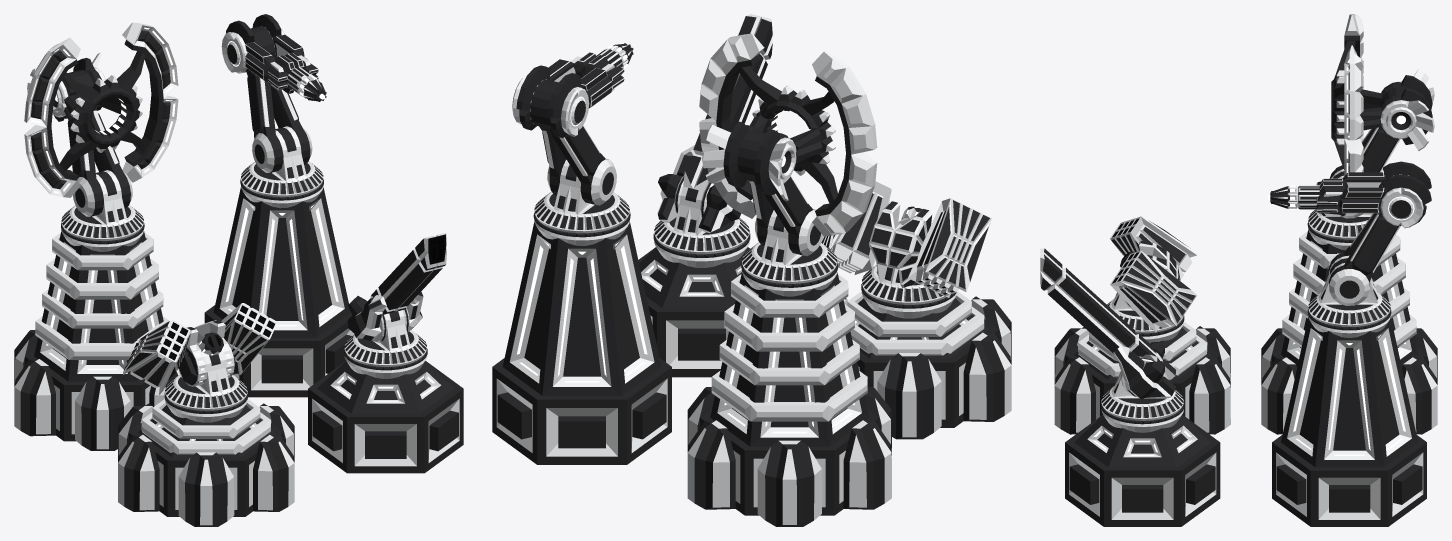
Rendered from tower.glb.
3 renders of one model, left to right at view 1: azimuth 30°, elevation 25°; view 2: azimuth 150°, elevation 25°; view 3: azimuth 270°, elevation 25°, orthographic. The views are drawn at different scales.
Parts seen in each view (by area): view 1: MultifunctionalTower_Armored, MultifunctionalTower, MultifunctionalSmallTower, MultifunctionalSmallTower_Armored, Tower_RadarHead, Tower_LaserUpperHead, Tower_LaserUpperNeck, Tower_RadarUpperNeck, Tower_AntiAirGun.R, Tower_LaserNeck, Tower_RadarNeck, Tower_ArtilleryGun (+6 smaller); view 2: MultifunctionalTower_Armored, MultifunctionalTower, Tower_RadarHead, MultifunctionalSmallTower, MultifunctionalSmallTower_Armored, Tower_LaserUpperHead, Tower_AntiAirGun.R, Tower_LaserUpperNeck, Tower_RadarUpperNeck, Tower_AntiAirHead, Tower_RadarNeck, Tower_LaserNeck (+5 smaller); view 3: MultifunctionalTower, MultifunctionalSmallTower_Armored, MultifunctionalTower_Armored, MultifunctionalSmallTower, Tower_RadarHead, Tower_LaserUpperHead, Tower_AntiAirGun.L, Tower_ArtilleryGun, Tower_LaserUpperNeck, Tower_ArtilleryHead, Tower_LaserNeck, Tower_AntiAirGun.R (+6 smaller).
Boxes of the visible parts, x1,y1,x2,y2 form: MultifunctionalTower_Armored: [14, 222, 179, 450]; MultifunctionalTower: [204, 179, 354, 397]; MultifunctionalSmallTower: [118, 392, 294, 526]; MultifunctionalSmallTower_Armored: [308, 348, 463, 473]; Tower_RadarHead: [24, 22, 178, 197]; Tower_LaserUpperHead: [221, 14, 318, 96]; Tower_LaserUpperNeck: [246, 26, 312, 172]; Tower_RadarUpperNeck: [67, 70, 132, 216]; Tower_AntiAirGun.R: [123, 320, 190, 394]; Tower_LaserNeck: [241, 126, 323, 195]; Tower_RadarNeck: [61, 170, 143, 238]; Tower_ArtilleryGun: [378, 233, 446, 309]; MultifunctionalTower_Armored: [687, 262, 891, 526]; MultifunctionalTower: [492, 212, 671, 464]; Tower_RadarHead: [699, 33, 877, 236]; MultifunctionalSmallTower: [843, 284, 1011, 439]; MultifunctionalSmallTower_Armored: [638, 233, 750, 377]; Tower_LaserUpperHead: [512, 49, 624, 137]; Tower_AntiAirGun.R: [908, 198, 991, 297]; Tower_LaserUpperNeck: [530, 79, 616, 205]; Tower_RadarUpperNeck: [737, 130, 823, 256]; Tower_AntiAirHead: [869, 201, 931, 287]; Tower_RadarNeck: [742, 210, 837, 281]; Tower_LaserNeck: [534, 159, 629, 231]; MultifunctionalTower: [1272, 308, 1426, 526]; MultifunctionalSmallTower_Armored: [1065, 402, 1220, 526]; MultifunctionalTower_Armored: [1261, 221, 1437, 434]; MultifunctionalSmallTower: [1054, 315, 1230, 434]; Tower_RadarHead: [1331, 14, 1434, 175]; Tower_LaserUpperHead: [1298, 161, 1431, 228]; Tower_AntiAirGun.L: [1110, 250, 1196, 332]; Tower_ArtilleryGun: [1040, 248, 1135, 353]; Tower_LaserUpperNeck: [1329, 174, 1406, 305]; Tower_ArtilleryHead: [1113, 334, 1175, 398]; Tower_LaserNeck: [1308, 255, 1390, 325]; Tower_AntiAirGun.R: [1110, 216, 1196, 279].
Bounding box in the file's own units: 3649 × 4063 × 3842.
Materials: 1 (1 with a texture image).
